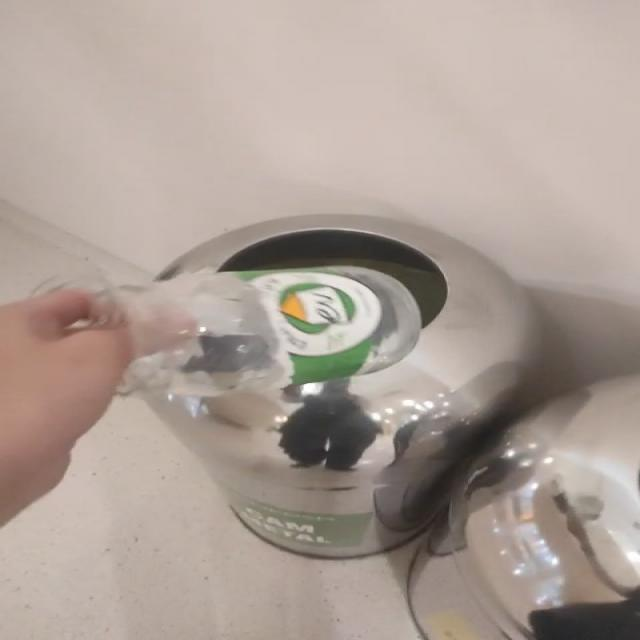glass: (65, 266, 421, 398)
